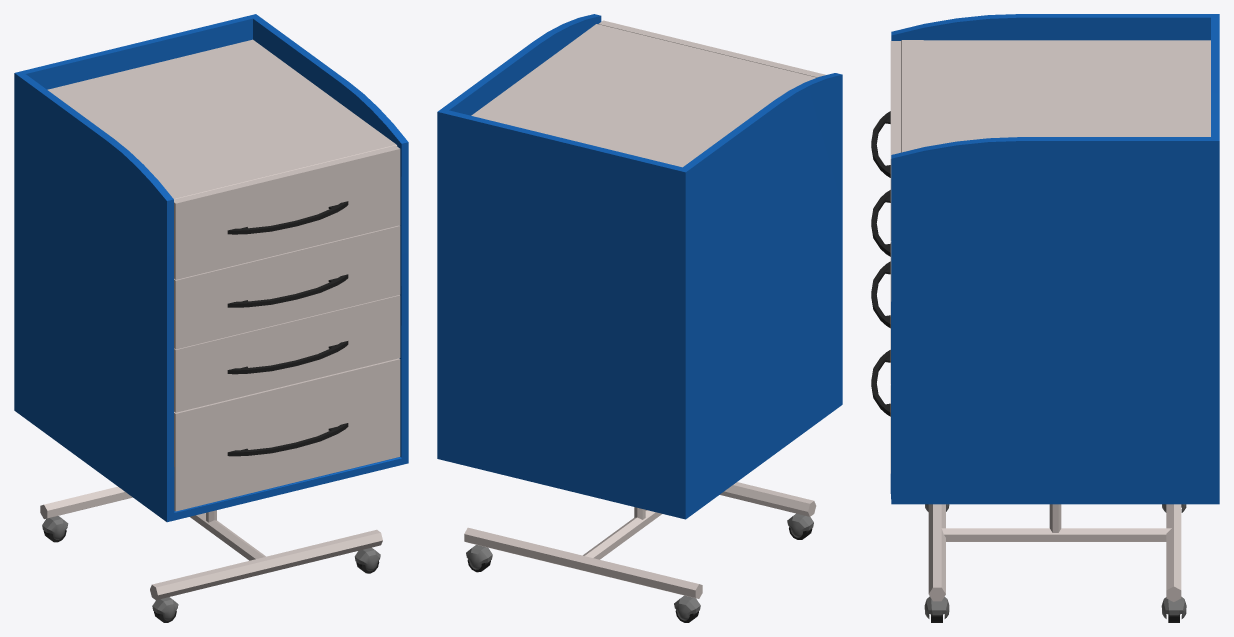
File: drawers.fbx
3 renders of one model, left to right at view 1: azimuth 30°, elevation 25°; view 2: azimuth 150°, elevation 25°; view 3: azimuth 270°, elevation 25°, orthographic. The views are drawn at different scales.
Visible parts, largest first — view 1: nightstand; view 2: nightstand; view 3: nightstand.
Boxes of the visible parts, left/top/right/bottom form: nightstand: left=14, top=14, right=408, bottom=622; nightstand: left=437, top=14, right=842, bottom=622; nightstand: left=871, top=14, right=1219, bottom=622.
Size of the model in its own units: 74.53 by 135 by 86.45.
